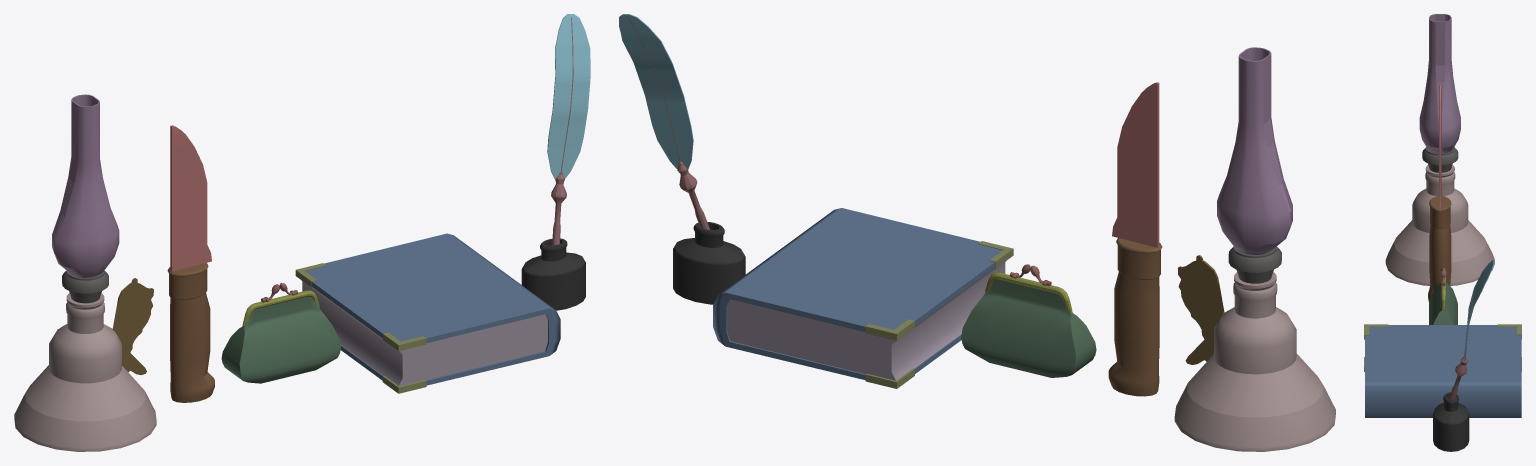
The model's file is PuzzleBoxProps_UVDone.fbx.
3 renders of one model, left to right at view 1: azimuth 30°, elevation 25°; view 2: azimuth 150°, elevation 25°; view 3: azimuth 270°, elevation 25°, orthographic. The views are drawn at different scales.
Parts seen in each view (by area): view 1: OldBook, OilLamp, Knife, Purse, Quill, Inkwell; view 2: OldBook, OilLamp, Knife, Purse, Quill, Inkwell; view 3: OldBook, OilLamp, Knife, Inkwell, Purse, Quill.
Boxes of the visible parts, box(x1,y1,x2,y2) form: OldBook: box(295, 233, 560, 393); OilLamp: box(14, 94, 156, 451); Knife: box(167, 125, 214, 402); Purse: box(221, 283, 340, 383); Quill: box(547, 14, 590, 245); Inkwell: box(521, 238, 585, 310); OldBook: box(713, 208, 1013, 388); OilLamp: box(1174, 47, 1335, 451); Knife: box(1108, 82, 1162, 396); Purse: box(961, 264, 1096, 377); Quill: box(619, 14, 709, 229); Inkwell: box(673, 222, 745, 304); OldBook: box(1364, 324, 1521, 417); OilLamp: box(1385, 14, 1494, 285); Knife: box(1428, 85, 1451, 303); Inkwell: box(1433, 392, 1469, 451); Purse: box(1429, 268, 1457, 324); Quill: box(1449, 260, 1494, 399).
Bounding box in the file's own units: 59.13 × 30.54 × 17.78.
